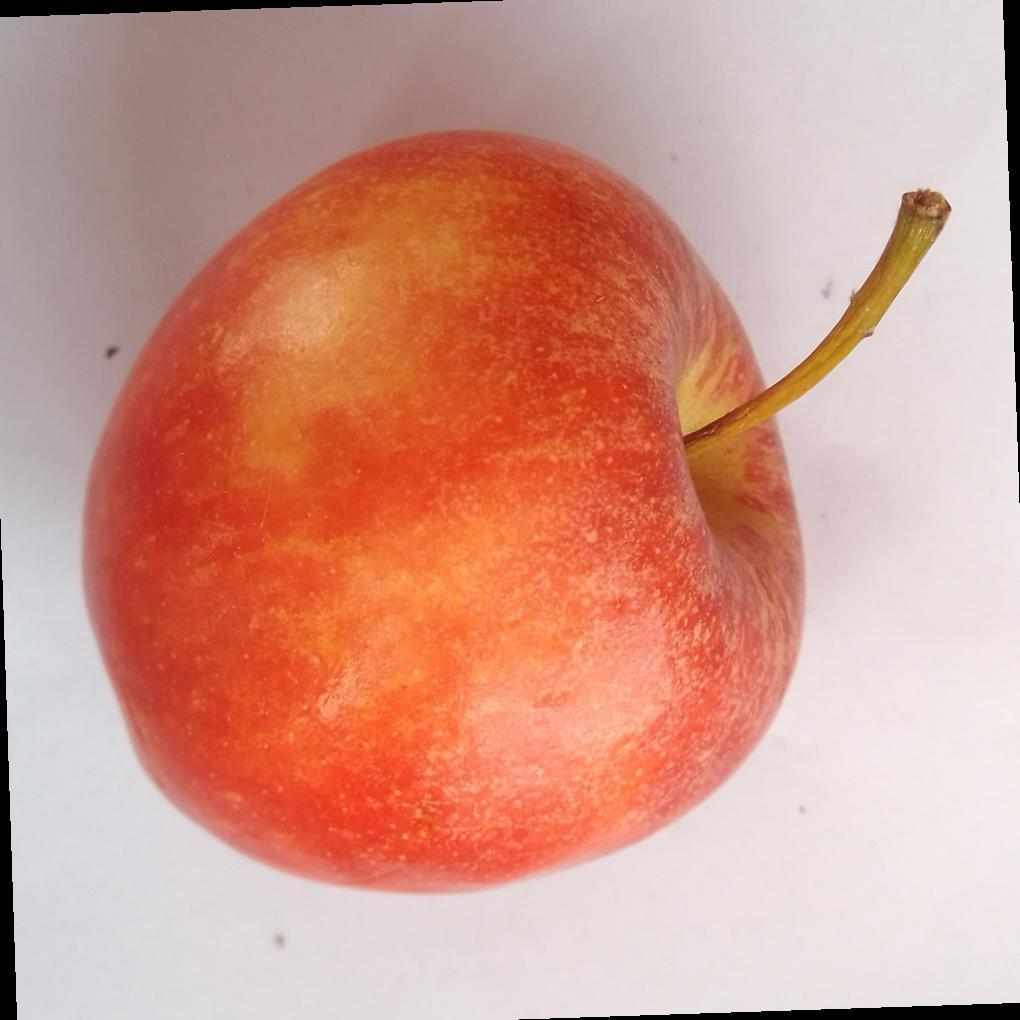FreshGuava: (79, 130, 937, 900)
